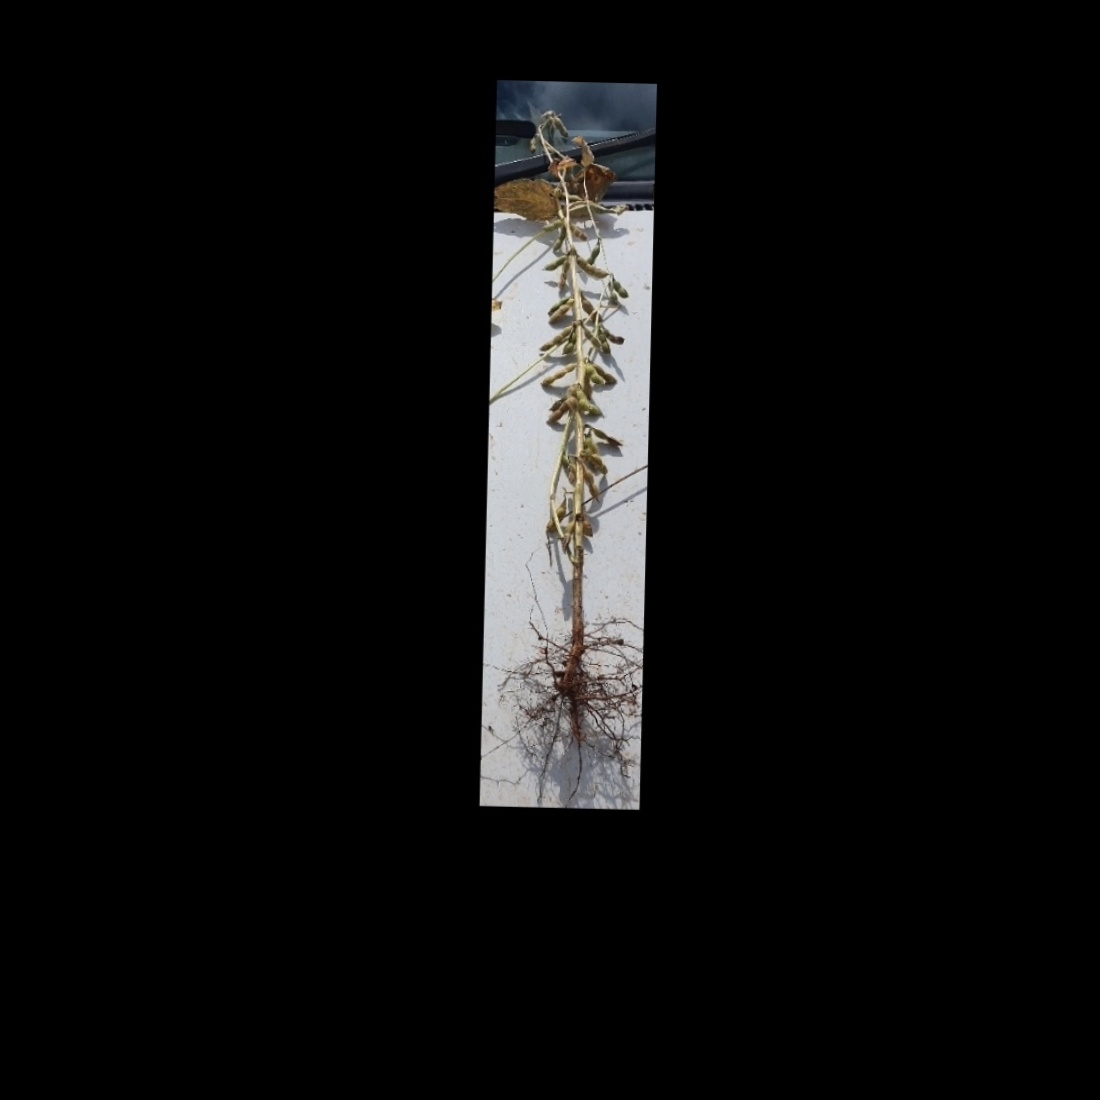pod: (541, 496, 569, 535), (540, 360, 575, 385), (538, 325, 569, 352), (594, 425, 626, 448), (582, 469, 601, 506), (581, 362, 606, 389), (575, 399, 604, 416), (581, 326, 600, 350), (561, 330, 577, 356), (596, 331, 611, 354), (612, 279, 630, 298)
soy: (491, 105, 637, 714)
